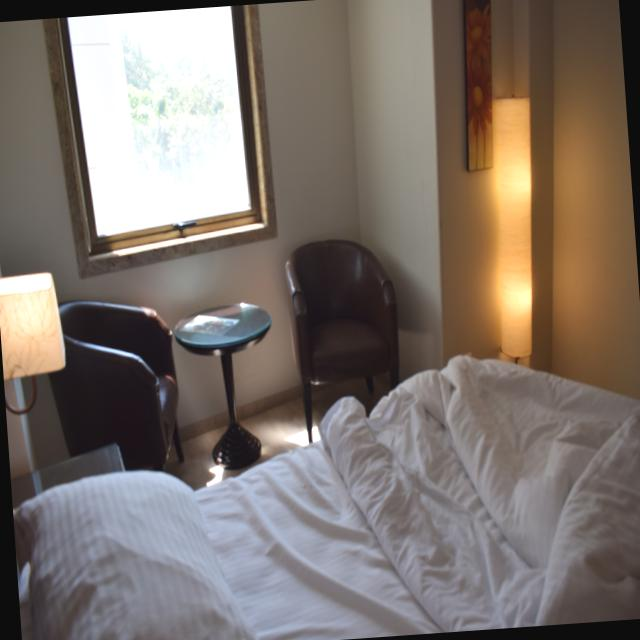mess: (7, 390, 640, 640)
